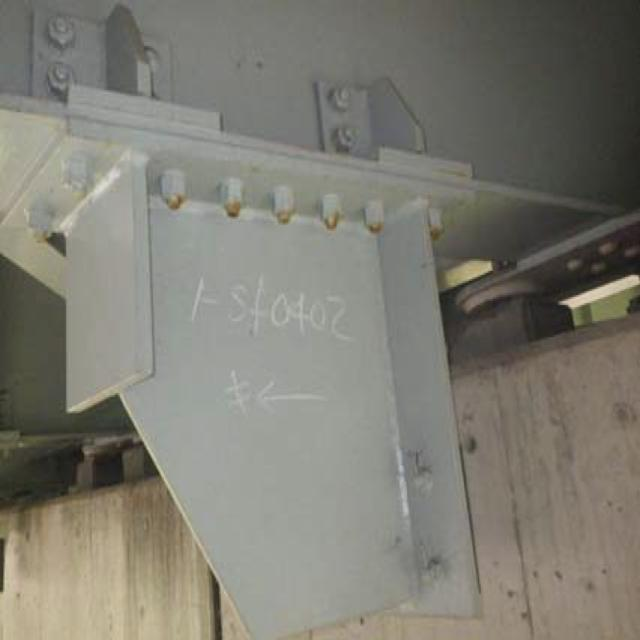corrosion: (163, 186, 398, 248)
